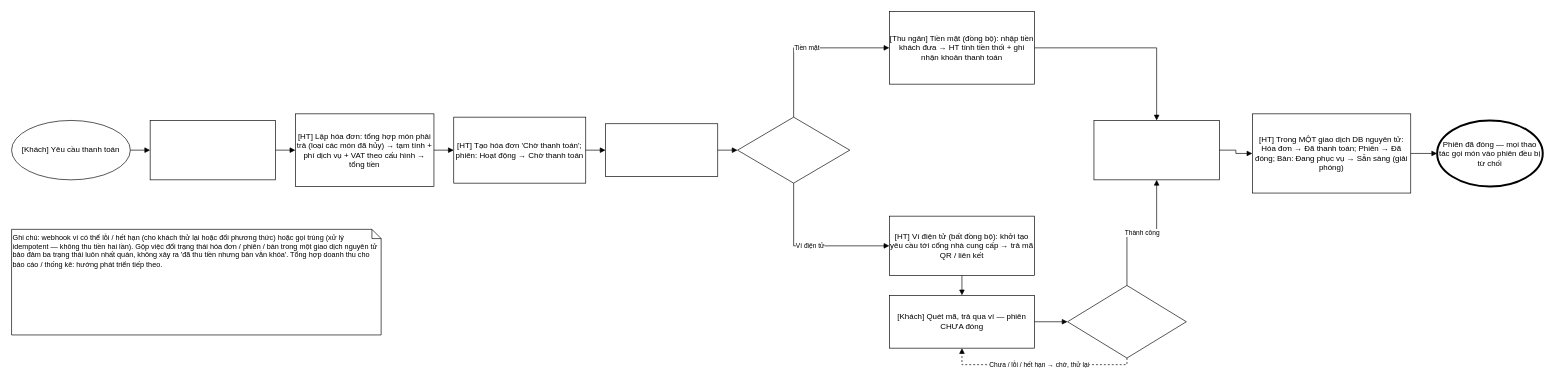
Some shapes in this 1555 by 381 pixel diagram are drawn without their labels. Here are the shapes that lost their labels. From the top down, the box of each, then its label:
(149, 120, 276, 180): [Thu ngân / Phục vụ] Truy cập hệ thống, chọn bàn tương ứng
(605, 123, 718, 177): [Thu ngân] Chọn phương thức thanh toán
(737, 116, 850, 183): [HT] Phương thức?
(1093, 120, 1219, 180): [HT] Ghi nhận thanh toán hoàn tất
(1067, 285, 1186, 358): [HT] Cổng gửi webhook xác nhận hoàn tất?
